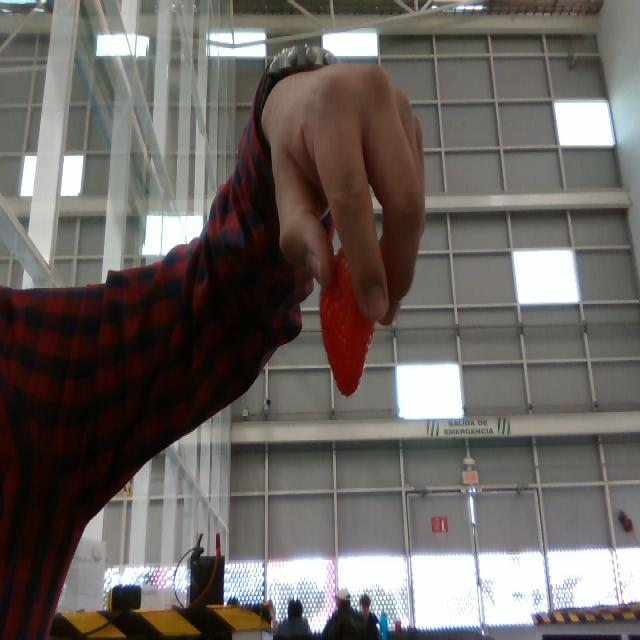grande_roja: (320, 248, 374, 396)
